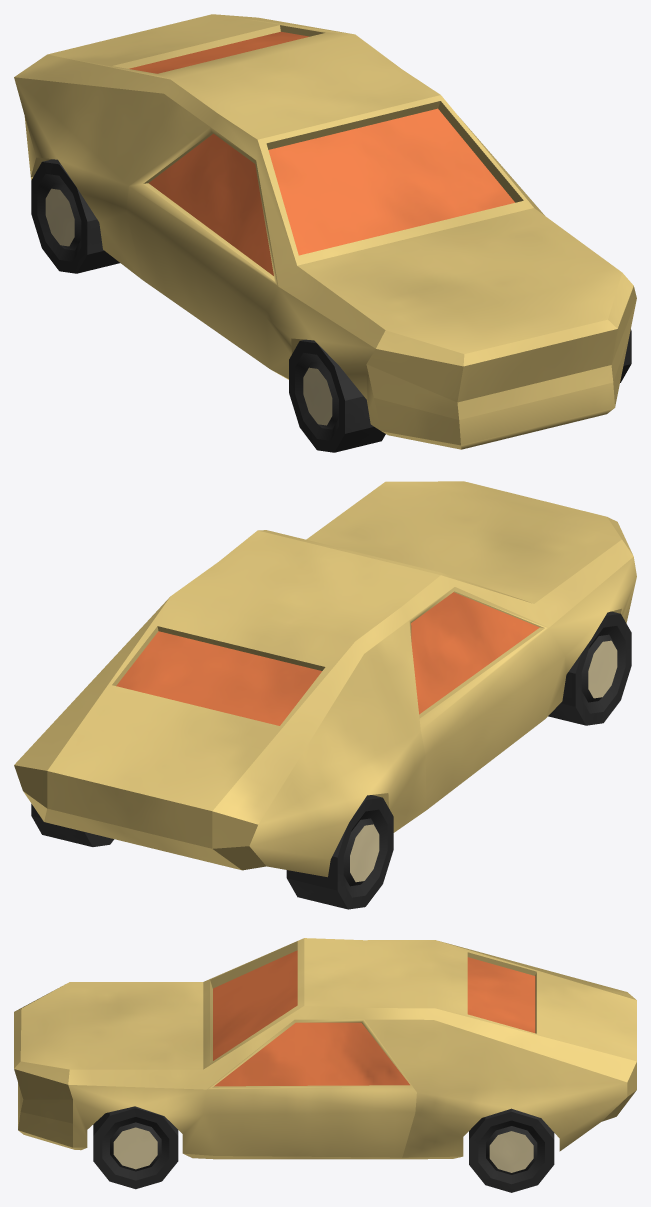
File: SM_BGCarObstacle_02.fbx
3 views of the same model, one above another, from view 1: azimuth 30°, elevation 25°; view 2: azimuth 150°, elevation 25°; view 3: azimuth 270°, elevation 25° (orthographic). The views are drawn at different scales.
Visible parts, largest first — view 1: CarObstacle_02; view 2: CarObstacle_02; view 3: CarObstacle_02.
Boxes of the visible parts, x1,y1,x2,y2 form: CarObstacle_02: [14, 14, 636, 452]; CarObstacle_02: [14, 481, 636, 909]; CarObstacle_02: [14, 938, 636, 1192].
Size of the model in its own units: 2.1 by 1.39 by 4.76.
